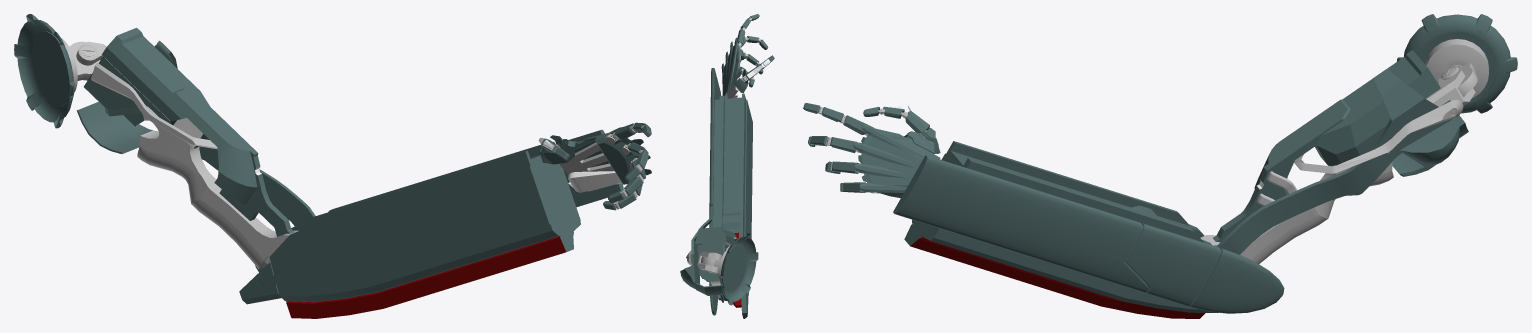
3 views of the same model, side by side, from view 1: azimuth 30°, elevation 25°; view 2: azimuth 150°, elevation 25°; view 3: azimuth 270°, elevation 25° (orthographic). The views are drawn at different scales.
Visible parts, largest first — view 1: Layer0_001; view 2: Layer0_001; view 3: Layer0_001.
Part boxes in pixels (x1=…): Layer0_001: x1=14, y1=14, x2=651, y2=318; Layer0_001: x1=680, y1=14, x2=774, y2=318; Layer0_001: x1=803, y1=14, x2=1517, y2=318.
Size of the model in its own units: 300976 by 259017 by 568962.
